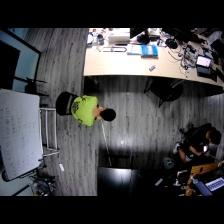normal: (167, 121, 224, 162), (68, 94, 117, 128)
